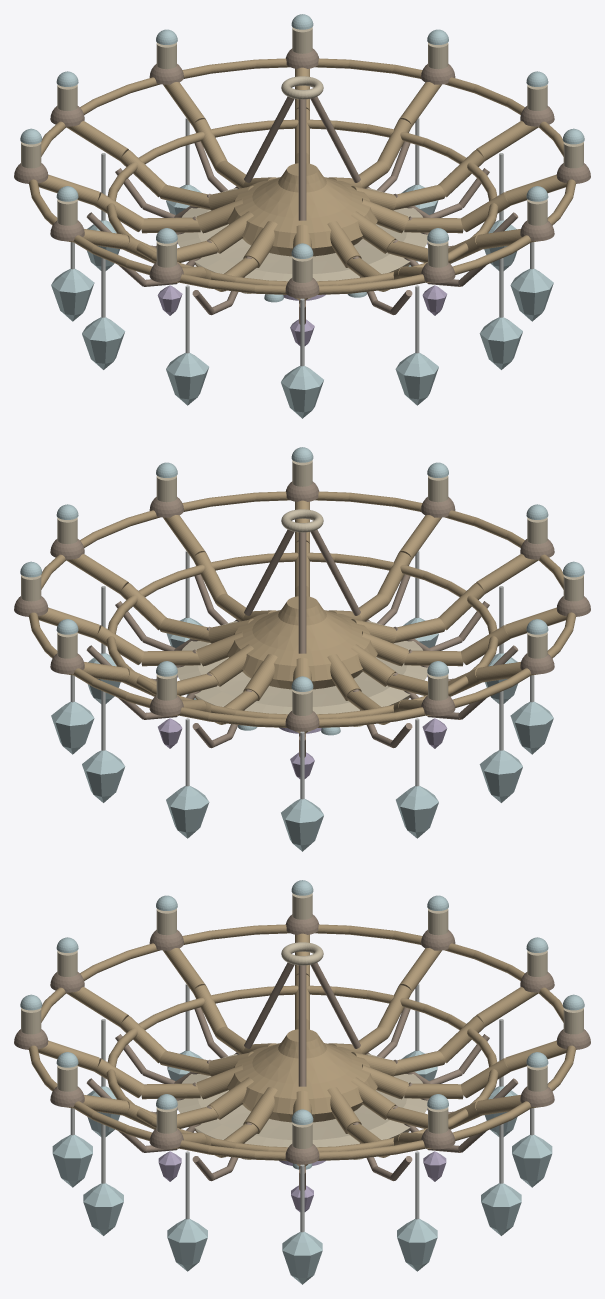
File: courtyard_chandelier.glb
3 views of the same model, one above another, from view 1: azimuth 30°, elevation 25°; view 2: azimuth 150°, elevation 25°; view 3: azimuth 270°, elevation 25° (orthographic).
Visible parts, largest first — view 1: B00_hoop_3.45, A00_scalloped_bowl, B00_hoop_2.45, A01_underbelly_mandala, I_02_large_teardrop, I_06_large_teardrop, I_04_large_teardrop, I_07_large_teardrop, I_01_large_teardrop, I_03_large_teardrop, I_05_large_teardrop, O01_suspend_1 (+35 smaller); view 2: B00_hoop_3.45, A00_scalloped_bowl, B00_hoop_2.45, A01_underbelly_mandala, I_10_large_teardrop, I_06_large_teardrop, I_08_large_teardrop, I_05_large_teardrop, I_09_large_teardrop, I_11_large_teardrop, I_07_large_teardrop, O01_suspend_2 (+35 smaller); view 3: B00_hoop_3.45, A00_scalloped_bowl, B00_hoop_2.45, A01_underbelly_mandala, I_00_large_teardrop, I_02_large_teardrop, I_10_large_teardrop, I_03_large_teardrop, I_09_large_teardrop, I_01_large_teardrop, I_11_large_teardrop, O01_suspend_0 (+35 smaller).
Boxes of the visible parts, left/top/right/bottom form: B00_hoop_3.45: left=29, top=58, right=575, bottom=294; A00_scalloped_bowl: left=227, top=163, right=377, bottom=256; B00_hoop_2.45: left=106, top=119, right=498, bottom=285; A01_underbelly_mandala: left=177, top=188, right=427, bottom=281; I_02_large_teardrop: left=479, top=317, right=522, bottom=369; I_06_large_teardrop: left=82, top=317, right=125, bottom=369; I_04_large_teardrop: left=281, top=365, right=323, bottom=418; I_07_large_teardrop: left=51, top=268, right=94, bottom=321; I_01_large_teardrop: left=510, top=268, right=553, bottom=321; I_03_large_teardrop: left=395, top=353, right=438, bottom=405; I_05_large_teardrop: left=166, top=353, right=208, bottom=405; O01_suspend_1: left=298, top=99, right=306, bottom=220; B00_hoop_3.45: left=29, top=491, right=575, bottom=727; A00_scalloped_bowl: left=227, top=596, right=377, bottom=689; B00_hoop_2.45: left=106, top=552, right=498, bottom=718; A01_underbelly_mandala: left=177, top=621, right=427, bottom=714; I_10_large_teardrop: left=82, top=750, right=125, bottom=802; I_06_large_teardrop: left=479, top=750, right=522, bottom=802; I_08_large_teardrop: left=281, top=798, right=323, bottom=851; I_05_large_teardrop: left=510, top=701, right=553, bottom=754; I_09_large_teardrop: left=166, top=786, right=209, bottom=838; I_11_large_teardrop: left=51, top=701, right=94, bottom=754; I_07_large_teardrop: left=396, top=786, right=438, bottom=838; O01_suspend_2: left=298, top=532, right=306, bottom=653; B00_hoop_3.45: left=29, top=924, right=575, bottom=1160; A00_scalloped_bowl: left=227, top=1029, right=377, bottom=1122; B00_hoop_2.45: left=106, top=985, right=498, bottom=1151; A01_underbelly_mandala: left=177, top=1054, right=427, bottom=1147; I_00_large_teardrop: left=282, top=1232, right=322, bottom=1284; I_02_large_teardrop: left=83, top=1183, right=123, bottom=1235; I_10_large_teardrop: left=481, top=1183, right=521, bottom=1235; I_03_large_teardrop: left=52, top=1134, right=92, bottom=1187; I_09_large_teardrop: left=512, top=1134, right=552, bottom=1187; I_01_large_teardrop: left=167, top=1219, right=207, bottom=1271; I_11_large_teardrop: left=397, top=1219, right=437, bottom=1271; O01_suspend_0: left=298, top=965, right=306, bottom=1086.
Size of the model in its own units: 7.36 by 3.35 by 7.36.
